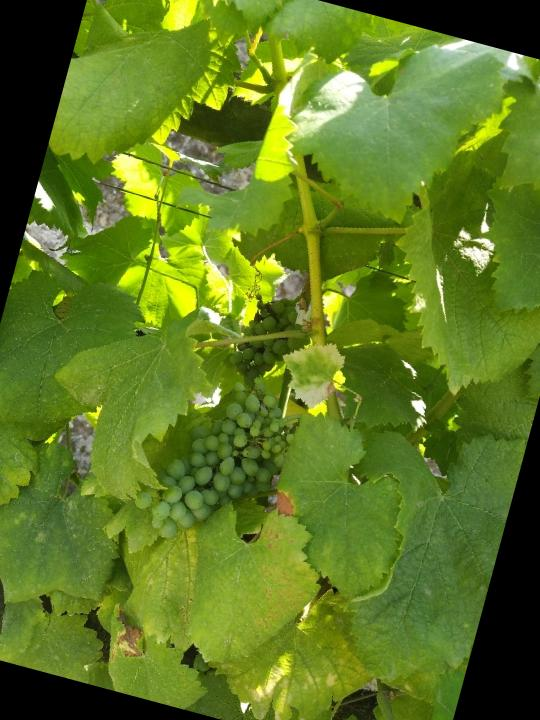grape: (123, 361, 307, 566), (222, 284, 323, 398)
